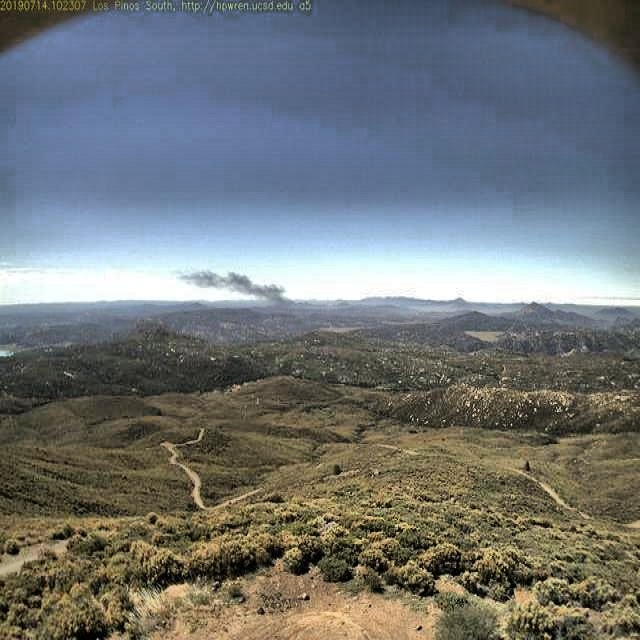smoke: (173, 263, 299, 313)
